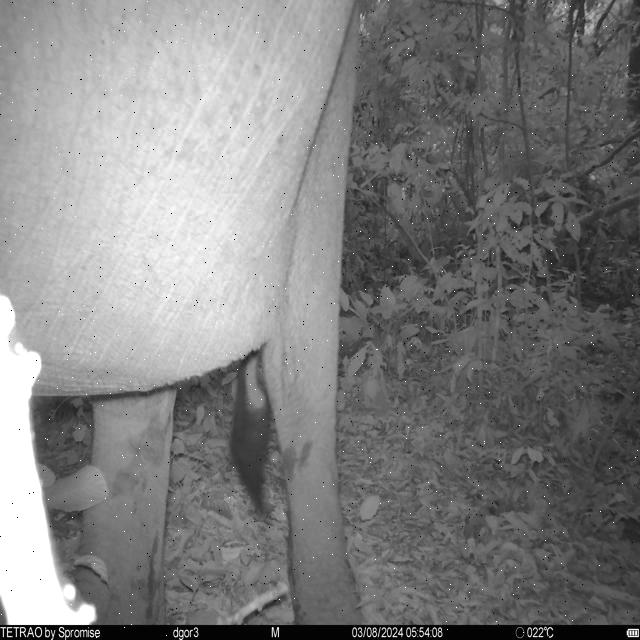elephant: (1, 0, 360, 624)
